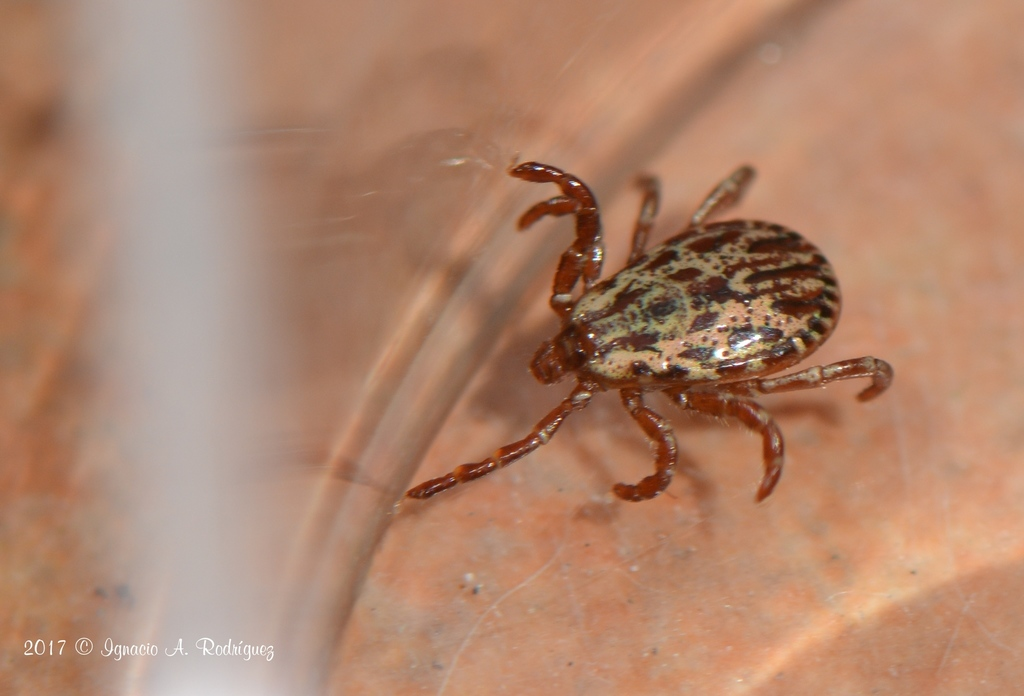garrapata: (403, 162, 899, 514)
